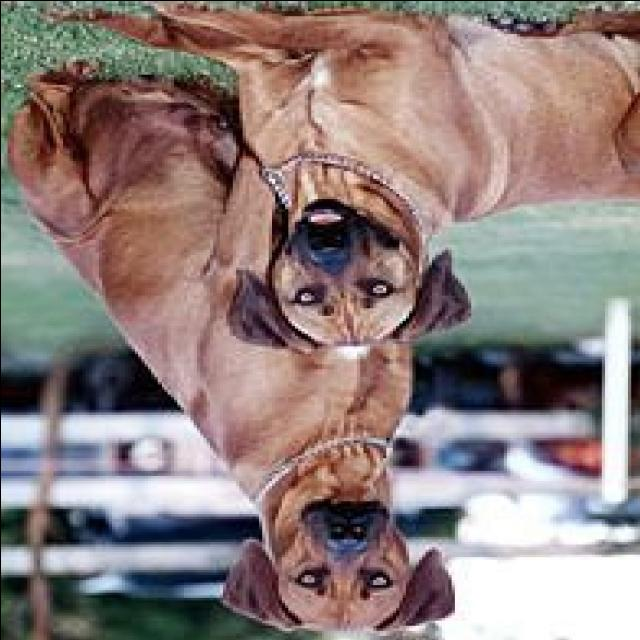rhodesian_ridgeback: (6, 56, 458, 640), (33, 2, 636, 354)
